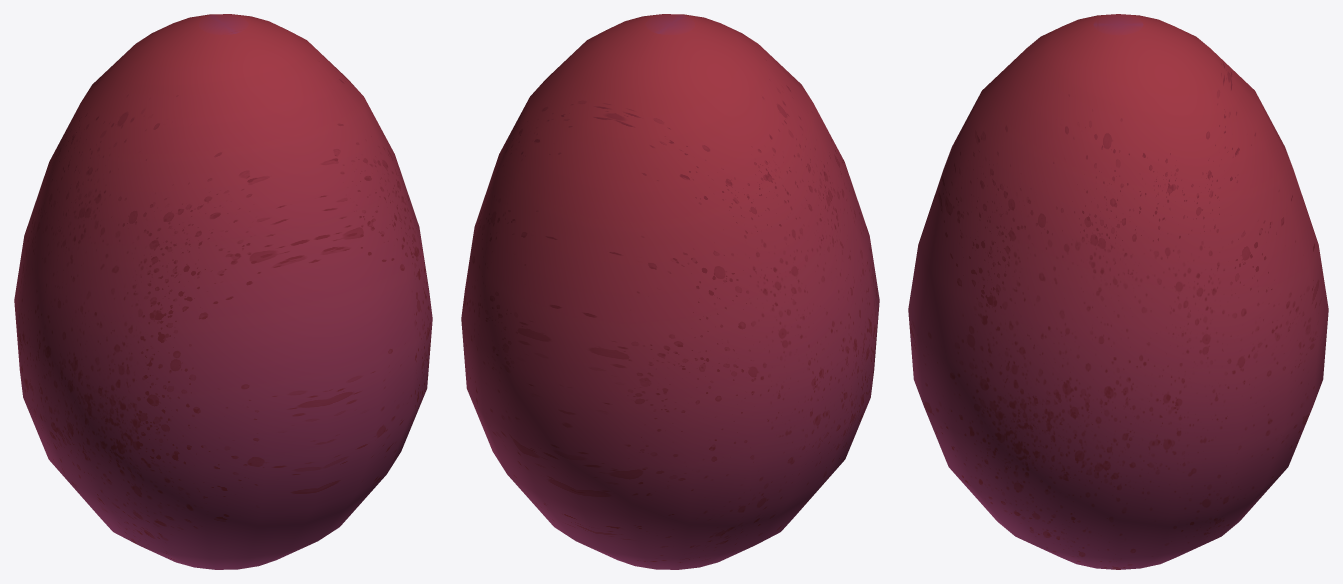
The model's file is Egg.fbx.
3 views of the same model, side by side, from view 1: azimuth 30°, elevation 25°; view 2: azimuth 150°, elevation 25°; view 3: azimuth 270°, elevation 25° (orthographic).
Parts seen in each view (by area): view 1: Cylinder; view 2: Cylinder; view 3: Cylinder.
Boxes of the visible parts, x1,y1,x2,y2 form: Cylinder: (14, 14, 432, 569); Cylinder: (461, 14, 879, 569); Cylinder: (908, 14, 1328, 569).
Bounding box in the file's own units: 223 × 309 × 223.
